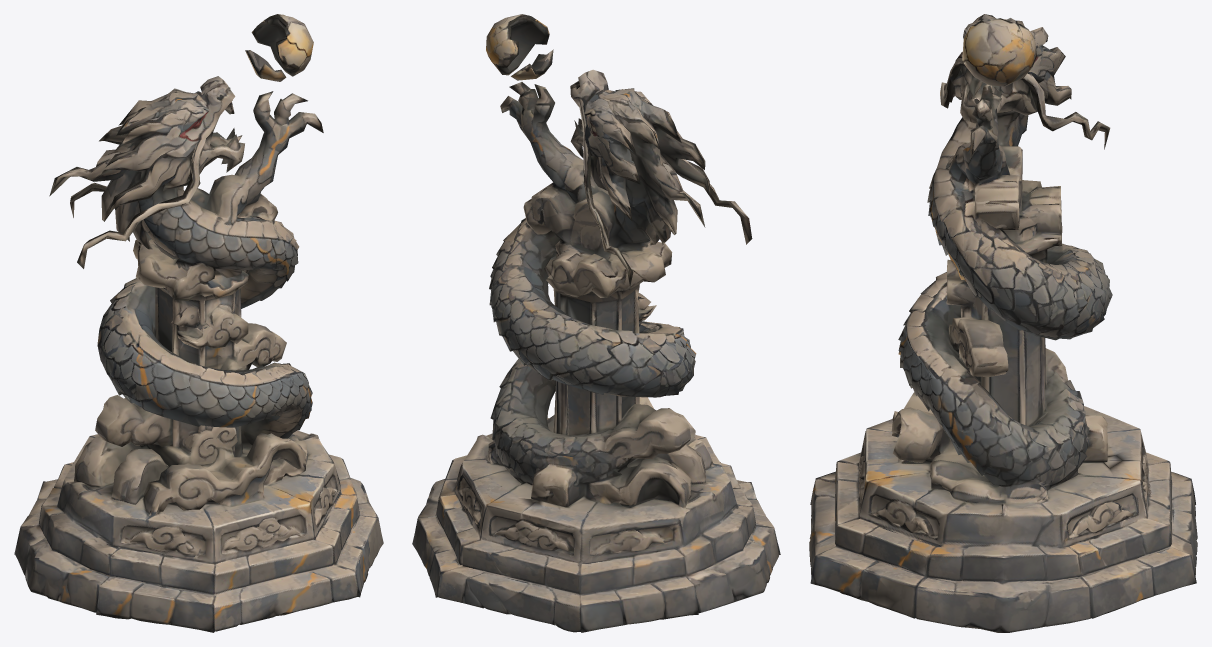
Rendered from estatua_imugi.glb.
3 renders of one model, left to right at view 1: azimuth 30°, elevation 25°; view 2: azimuth 150°, elevation 25°; view 3: azimuth 270°, elevation 25°, orthographic. The views are drawn at different scales.
Parts seen in each view (by area): view 1: EstatuaImugi; view 2: EstatuaImugi; view 3: EstatuaImugi.
Boxes of the visible parts, x1=… form: EstatuaImugi: x1=14, y1=14, x2=383, y2=632; EstatuaImugi: x1=412, y1=14, x2=780, y2=632; EstatuaImugi: x1=809, y1=14, x2=1197, y2=632.
Bounding box in the file's own units: 0.6793 × 1 × 0.6166.
1 material, 1 textured.
